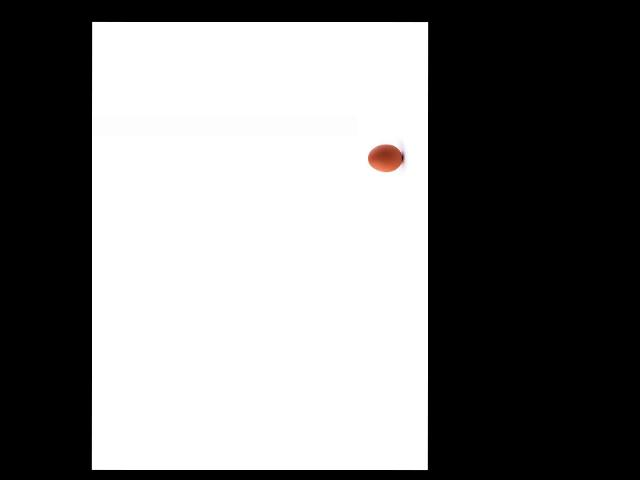egg: (368, 143, 402, 171)
